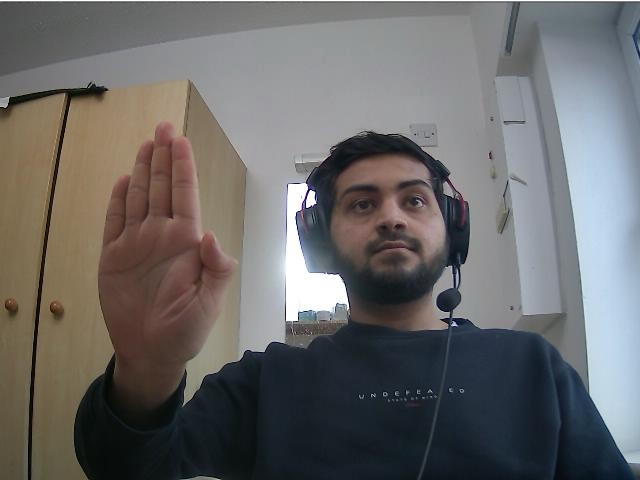up: (94, 120, 240, 361)
